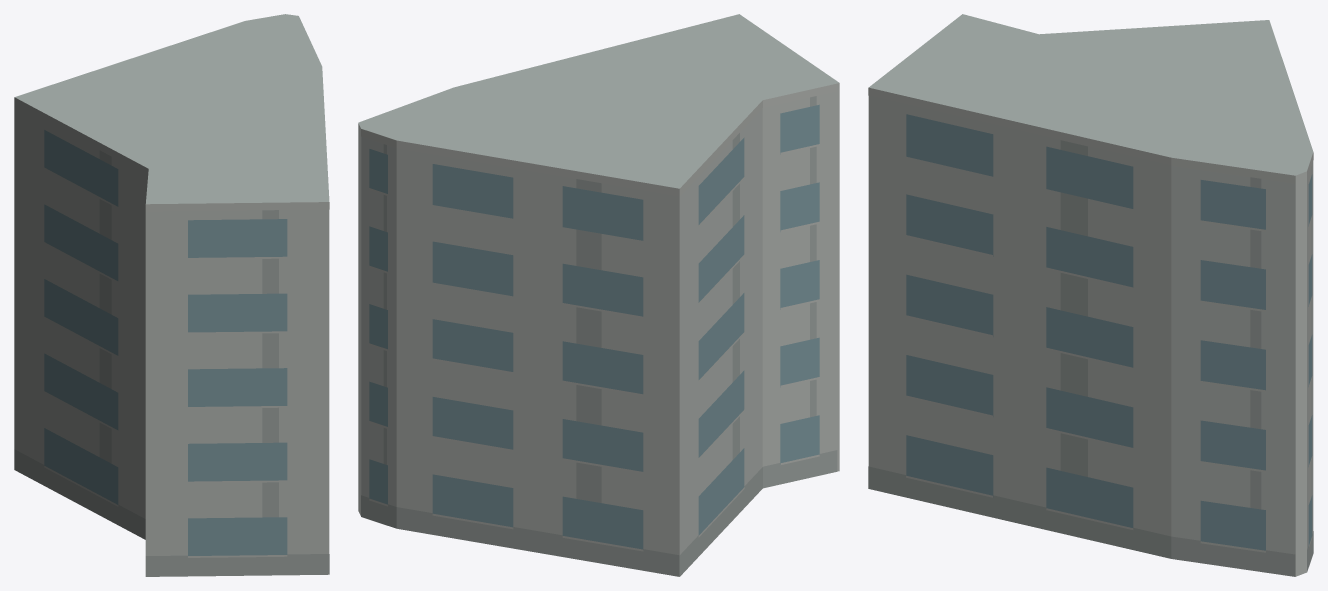
File: survey-upis-32726284.glb
3 renders of one model, left to right at view 1: azimuth 30°, elevation 25°; view 2: azimuth 150°, elevation 25°; view 3: azimuth 270°, elevation 25°, orthographic. The views are drawn at different scales.
Visible parts, largest first — view 1: survey-upis-32726284.tmp; view 2: survey-upis-32726284.tmp; view 3: survey-upis-32726284.tmp.
Boxes of the visible parts, x1,y1,x2,y2 form: survey-upis-32726284.tmp: [14, 14, 329, 576]; survey-upis-32726284.tmp: [358, 14, 839, 576]; survey-upis-32726284.tmp: [868, 14, 1313, 576].
Bounding box in the file's own units: 10.46 × 12.1 × 12.17.
